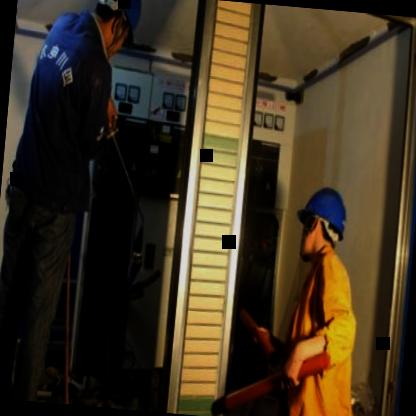helmet: (292, 176, 354, 272), (81, 0, 144, 64)
